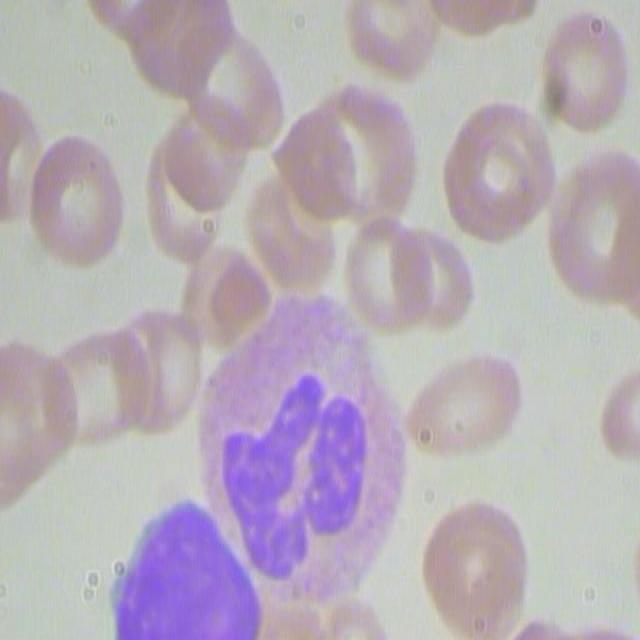RBC: (269, 80, 421, 238), (441, 95, 558, 248), (136, 104, 240, 263), (537, 144, 637, 304), (424, 494, 534, 639), (22, 128, 127, 273), (406, 343, 526, 467), (178, 28, 286, 154), (534, 6, 632, 134), (0, 348, 77, 510), (44, 332, 150, 446), (119, 312, 213, 436), (342, 214, 430, 345), (178, 240, 276, 353), (123, 2, 224, 102), (342, 0, 437, 82), (0, 71, 41, 234), (417, 0, 547, 40), (600, 354, 640, 464)
WBC: (201, 323, 399, 618), (100, 482, 268, 636)
